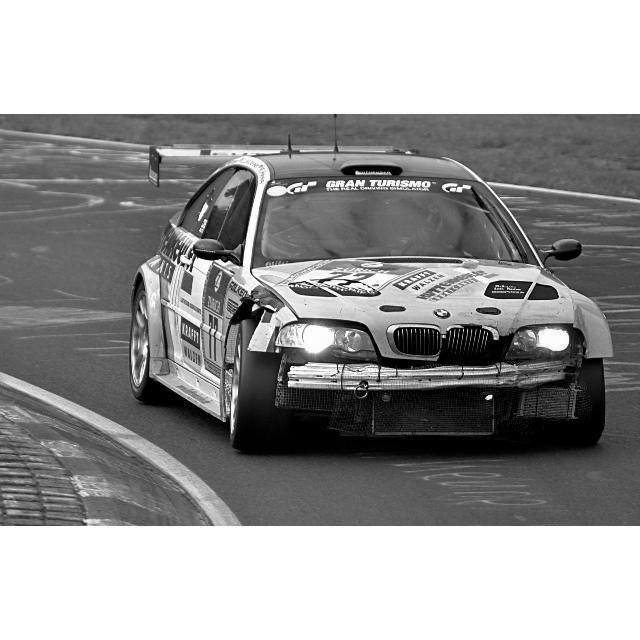front-bumper-dent: (268, 318, 576, 440)
